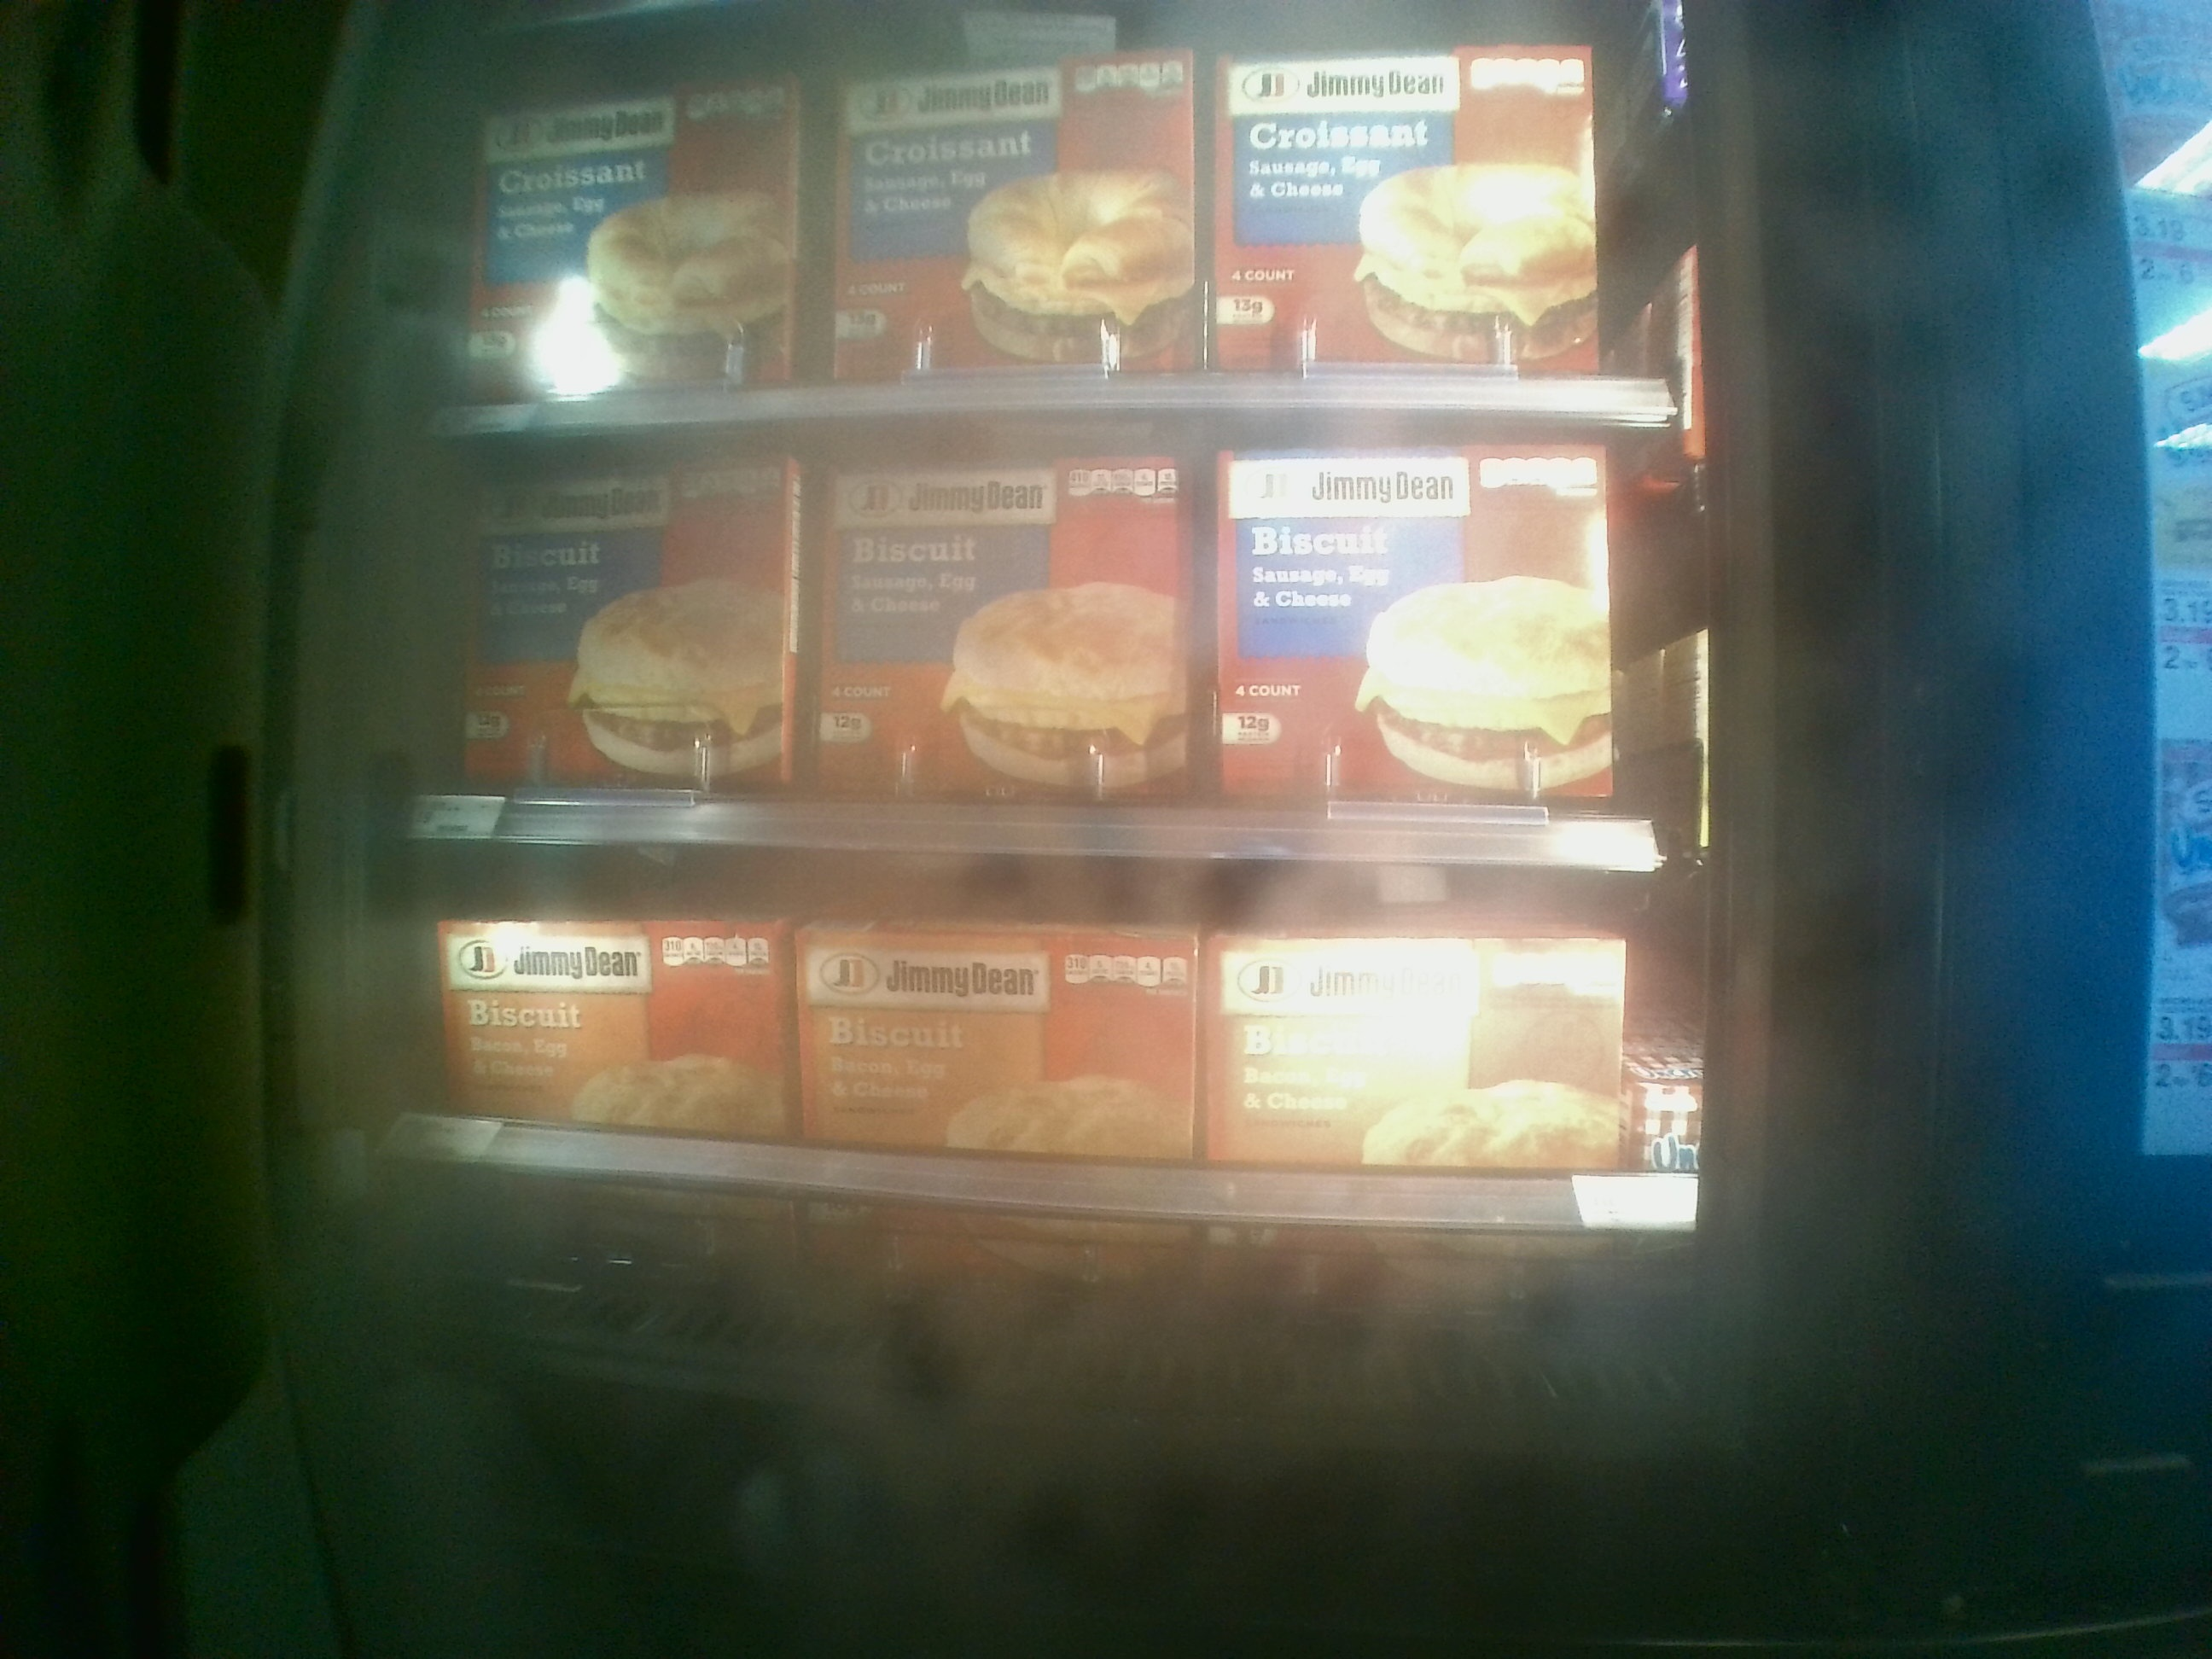shelf: (388, 838, 1700, 1309), (415, 425, 1686, 873)
